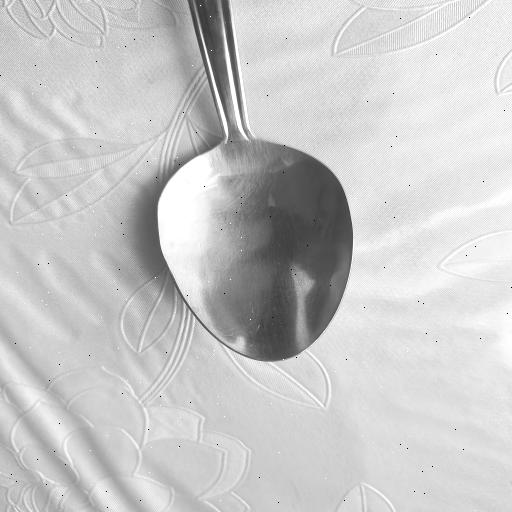spoon: (154, 0, 353, 362)
